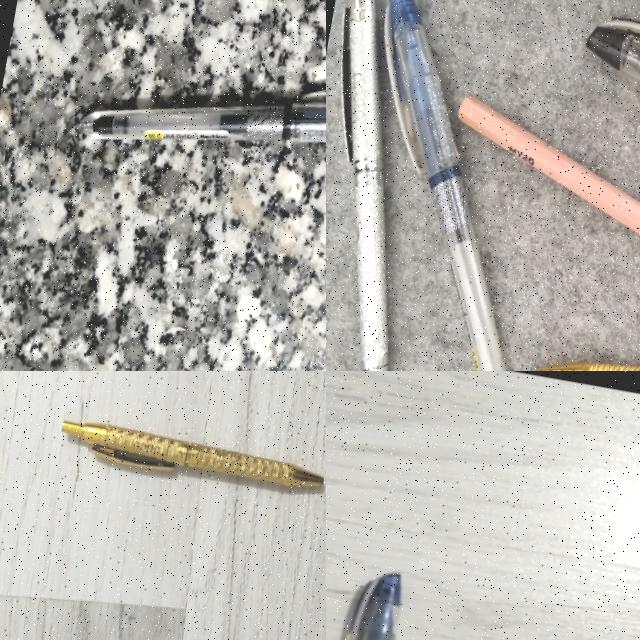pen: (386, 0, 505, 371), (78, 90, 325, 142), (346, 573, 402, 640)
pencil: (459, 96, 640, 232)
signature pen: (338, 0, 390, 371), (62, 421, 322, 487)
